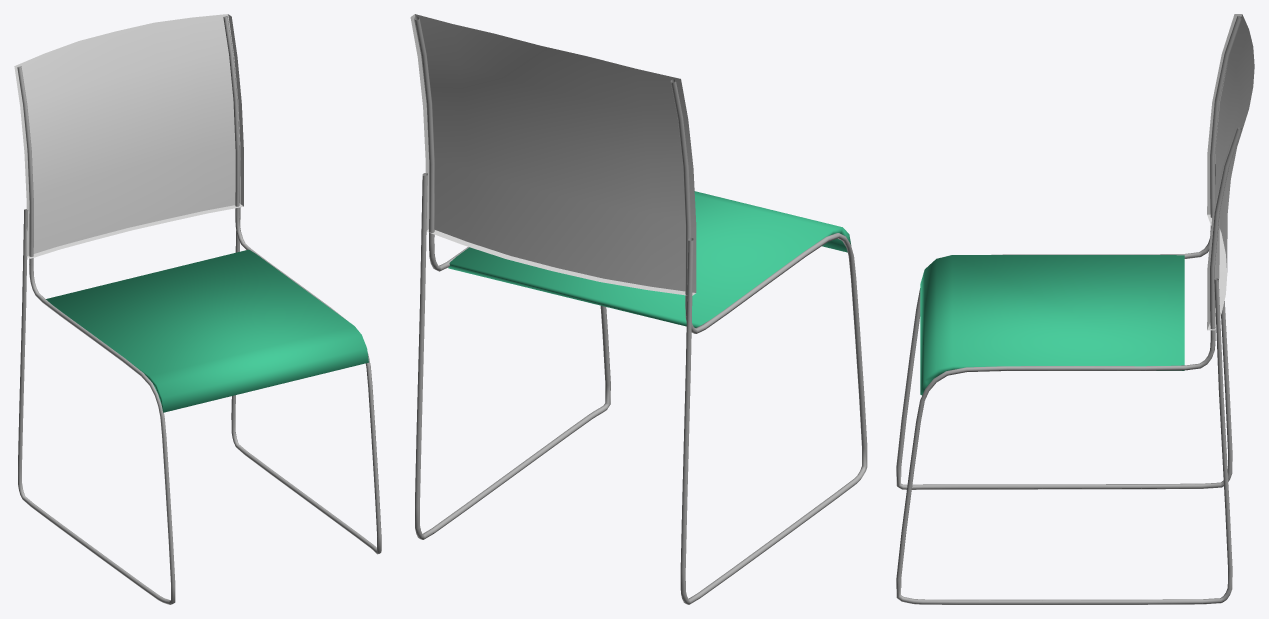
Rendered from chair.glb.
3 renders of one model, left to right at view 1: azimuth 30°, elevation 25°; view 2: azimuth 150°, elevation 25°; view 3: azimuth 270°, elevation 25°, orthographic. The views are drawn at different scales.
Visible parts, largest first — view 1: Circle, Cube, NurbsCurve; view 2: Circle, Cube, NurbsCurve; view 3: Cube, NurbsCurve, Circle.
Part boxes in pixels (left/top/right/bottom): Circle: left=14, top=14, right=243, bottom=258; Cube: left=46, top=249, right=368, bottom=412; NurbsCurve: left=17, top=16, right=381, bottom=604; Circle: left=410, top=14, right=696, bottom=295; Cube: left=448, top=191, right=851, bottom=327; NurbsCurve: left=414, top=16, right=867, bottom=604; Cube: left=920, top=255, right=1184, bottom=395; NurbsCurve: left=896, top=16, right=1241, bottom=604; Circle: left=1207, top=14, right=1254, bottom=330.
Bounding box in the file's own units: 2.12 × 4.04 × 2.73.
